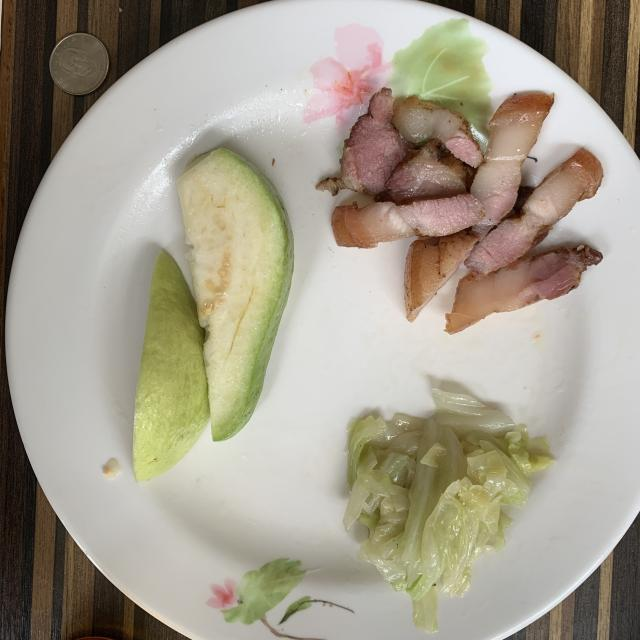cabbage: (344, 389, 552, 632)
coin: (50, 34, 109, 95)
grilled pork: (318, 89, 602, 332)
guava -sliced-: (132, 148, 294, 481)
